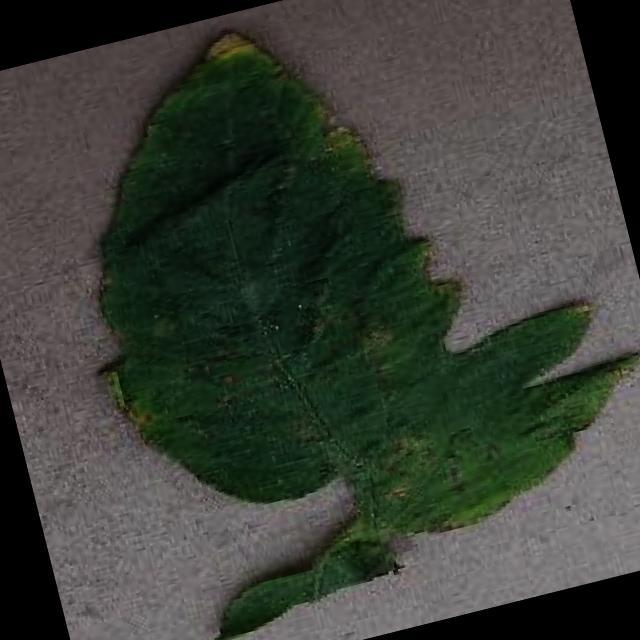Tomato bacterial spot leaf: (19, 0, 640, 607)
